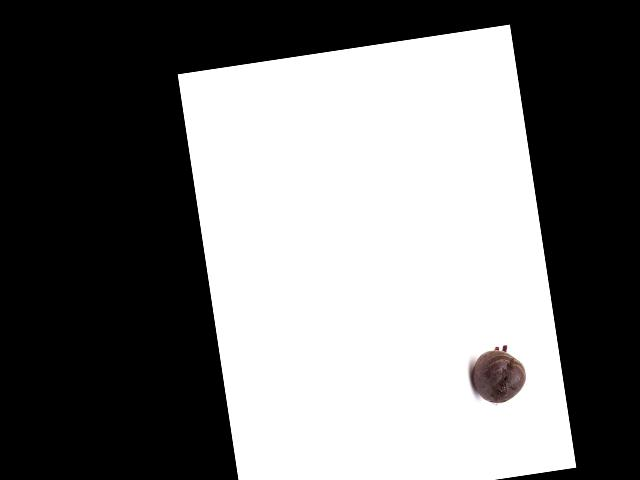beet: (467, 343, 529, 407)
